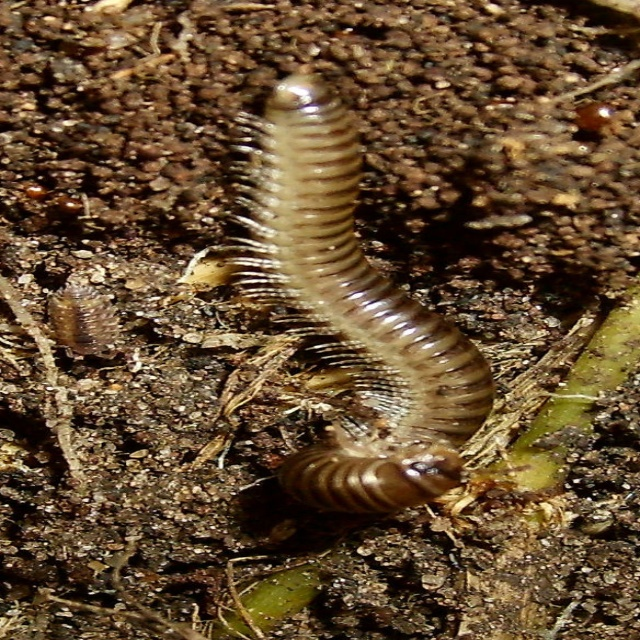Centipede: (168, 46, 501, 465)
